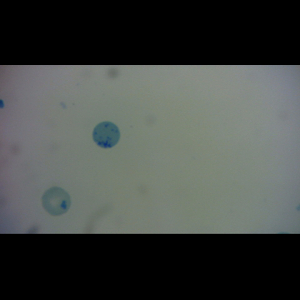aggregate reticulocyte: (91, 120, 122, 150)
erythrocyte: (40, 185, 73, 217)
